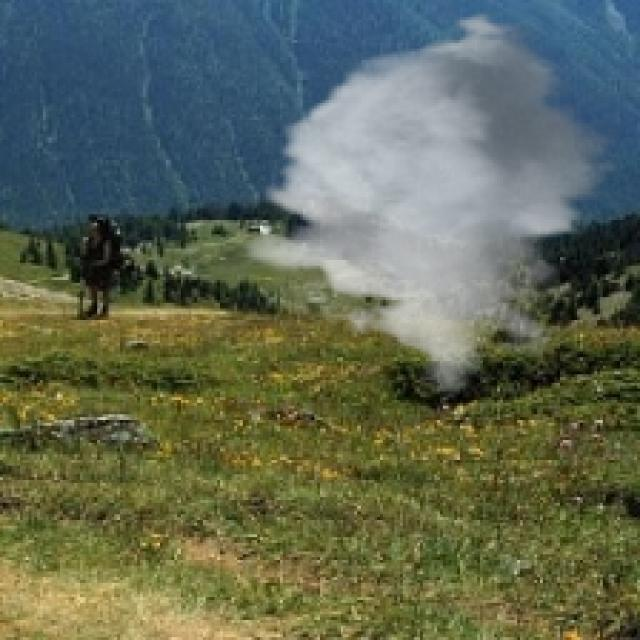smoke: (240, 9, 626, 394)
